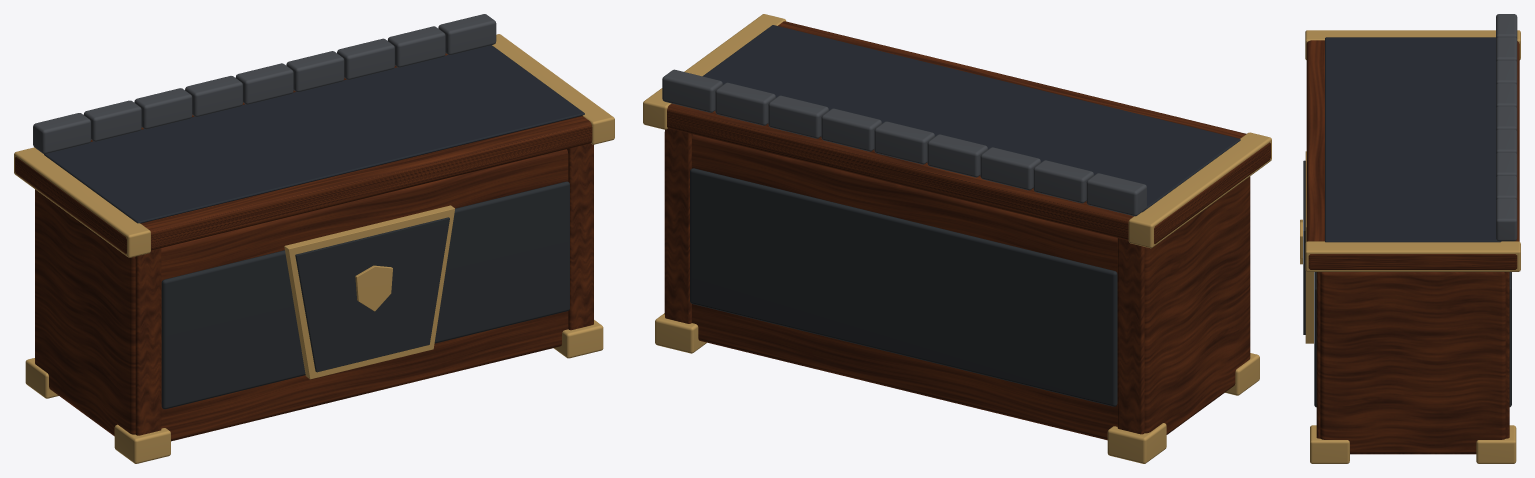
The model's file is estacoes_balcao.glb.
3 views of the same model, side by side, from view 1: azimuth 30°, elevation 25°; view 2: azimuth 150°, elevation 25°; view 3: azimuth 270°, elevation 25° (orthographic). The views are drawn at different scales.
Visible parts, largest first — view 1: balcao; view 2: balcao; view 3: balcao.
Boxes of the visible parts, left/top/right/bottom form: balcao: left=14, top=14, right=614, bottom=463; balcao: left=643, top=14, right=1271, bottom=463; balcao: left=1300, top=14, right=1520, bottom=463.
Size of the model in its own units: 1.58 by 0.8015 by 0.6635.
5 materials, 1 textured.
